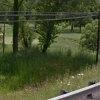Tree: (30, 5, 65, 63)
